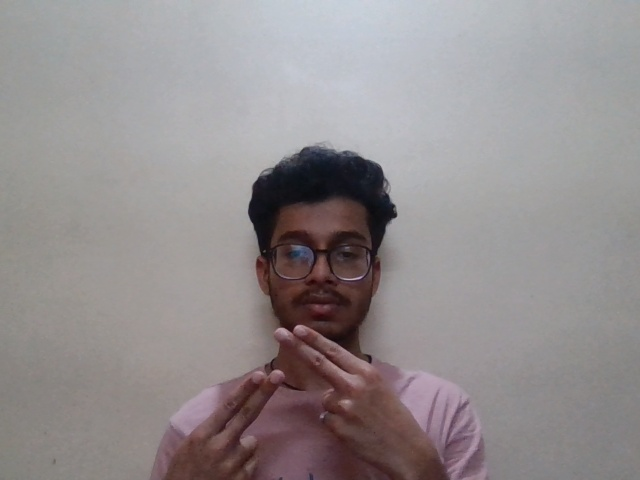my-name-is: (175, 317, 438, 473)
